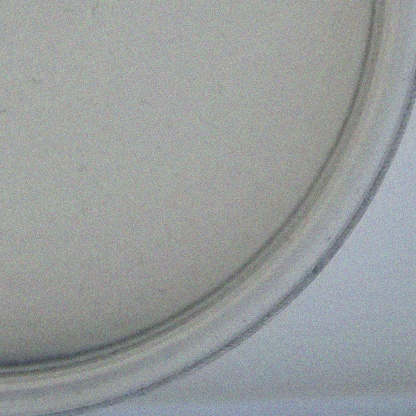worm: (207, 77, 238, 103), (72, 162, 102, 182), (21, 73, 51, 90), (86, 0, 109, 21), (58, 1, 77, 17), (0, 102, 13, 123), (5, 271, 18, 289)
